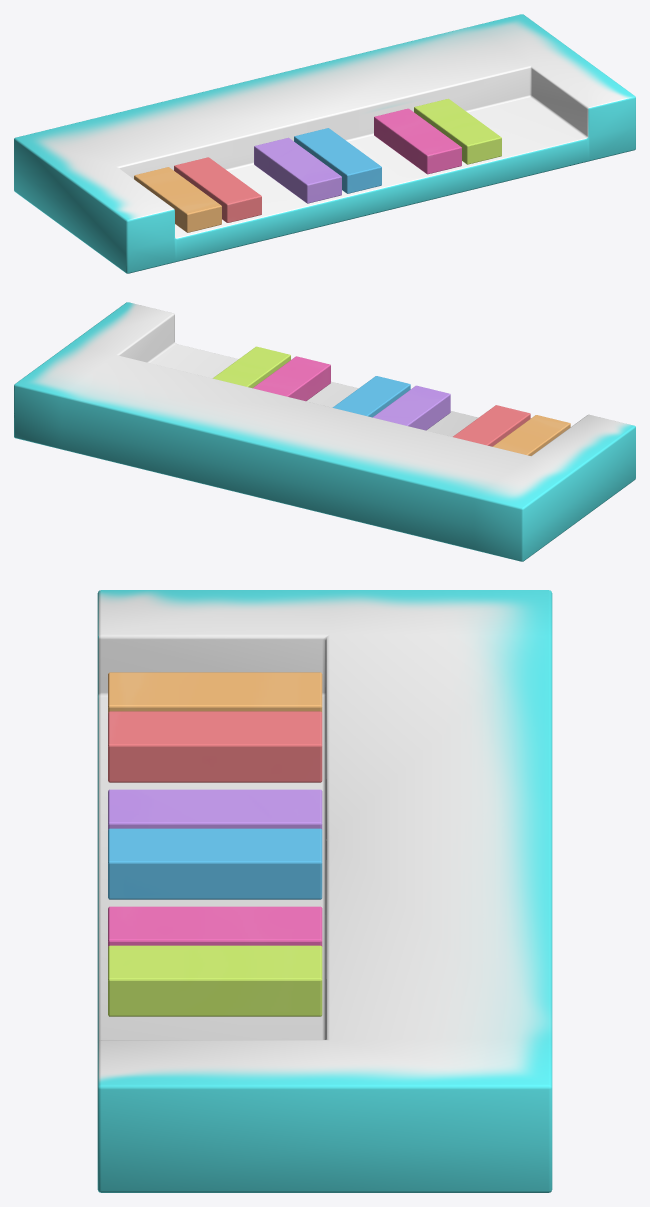
The model's file is Piano_MissingKeys.fbx.
The picture shows the model from 3 angles, top to bottom: view 1: azimuth 30°, elevation 25°; view 2: azimuth 150°, elevation 25°; view 3: azimuth 270°, elevation 25°; orthographic projection. The views are drawn at different scales.
Parts seen in each view (by area): view 1: Piano, Keys.003, Keys.006, Keys, Keys.007, Keys.004, Keys.001; view 2: Piano, Keys.003, Keys.006, Keys.001, Keys.004, Keys.007, Keys; view 3: Piano, Keys.001, Keys.004, Keys.007, Keys, Keys.003, Keys.006.
Boxes of the visible parts, x1,y1,x2,y2 form: Piano: (14, 14, 635, 273); Keys.003: (254, 137, 341, 203); Keys.006: (374, 108, 461, 174); Keys: (134, 167, 221, 232); Keys.007: (414, 98, 501, 164); Keys.004: (294, 128, 381, 193); Keys.001: (174, 157, 261, 222); Piano: (14, 302, 635, 561); Keys.003: (372, 385, 450, 430); Keys.006: (253, 356, 330, 401); Keys.001: (453, 405, 530, 446); Keys.004: (332, 376, 410, 417); Keys.007: (213, 346, 290, 388); Keys: (492, 415, 570, 455); Piano: (97, 590, 552, 1192); Keys.001: (108, 711, 322, 782); Keys.004: (108, 828, 322, 899); Keys.007: (108, 945, 322, 1016); Keys: (108, 672, 322, 712); Keys.003: (108, 789, 322, 829); Keys.006: (108, 906, 322, 946).
Bounding box in the file's own units: 1228 × 125 × 474.
